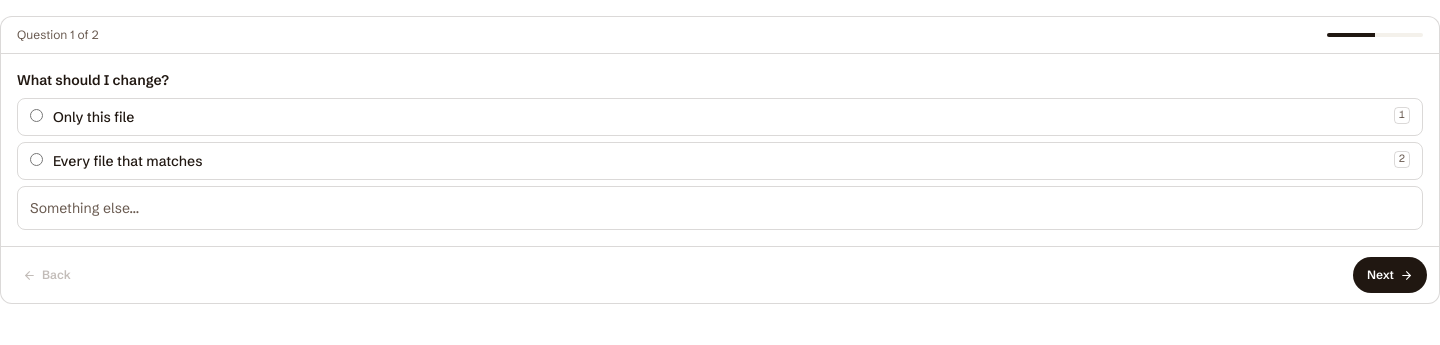
Scenario: Questionnaire › refuses to advance past a required question
Click the button "Next". click: [1390, 275]
box: [1353,257,1427,293]
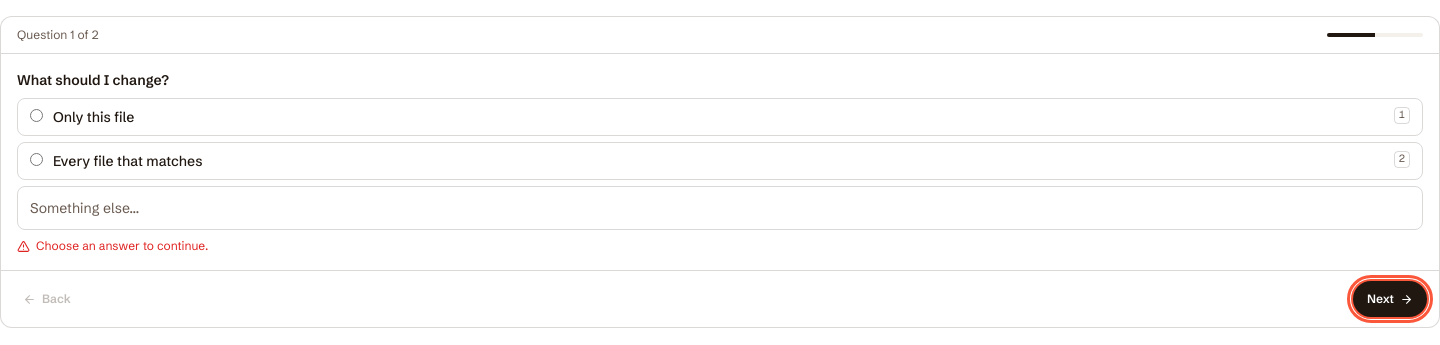
Expected: the text "Question 1 of 2" is shown, [17,27,98,43]
Result: the message shows "Choose an answer to continue" at [36,238,208,253]
